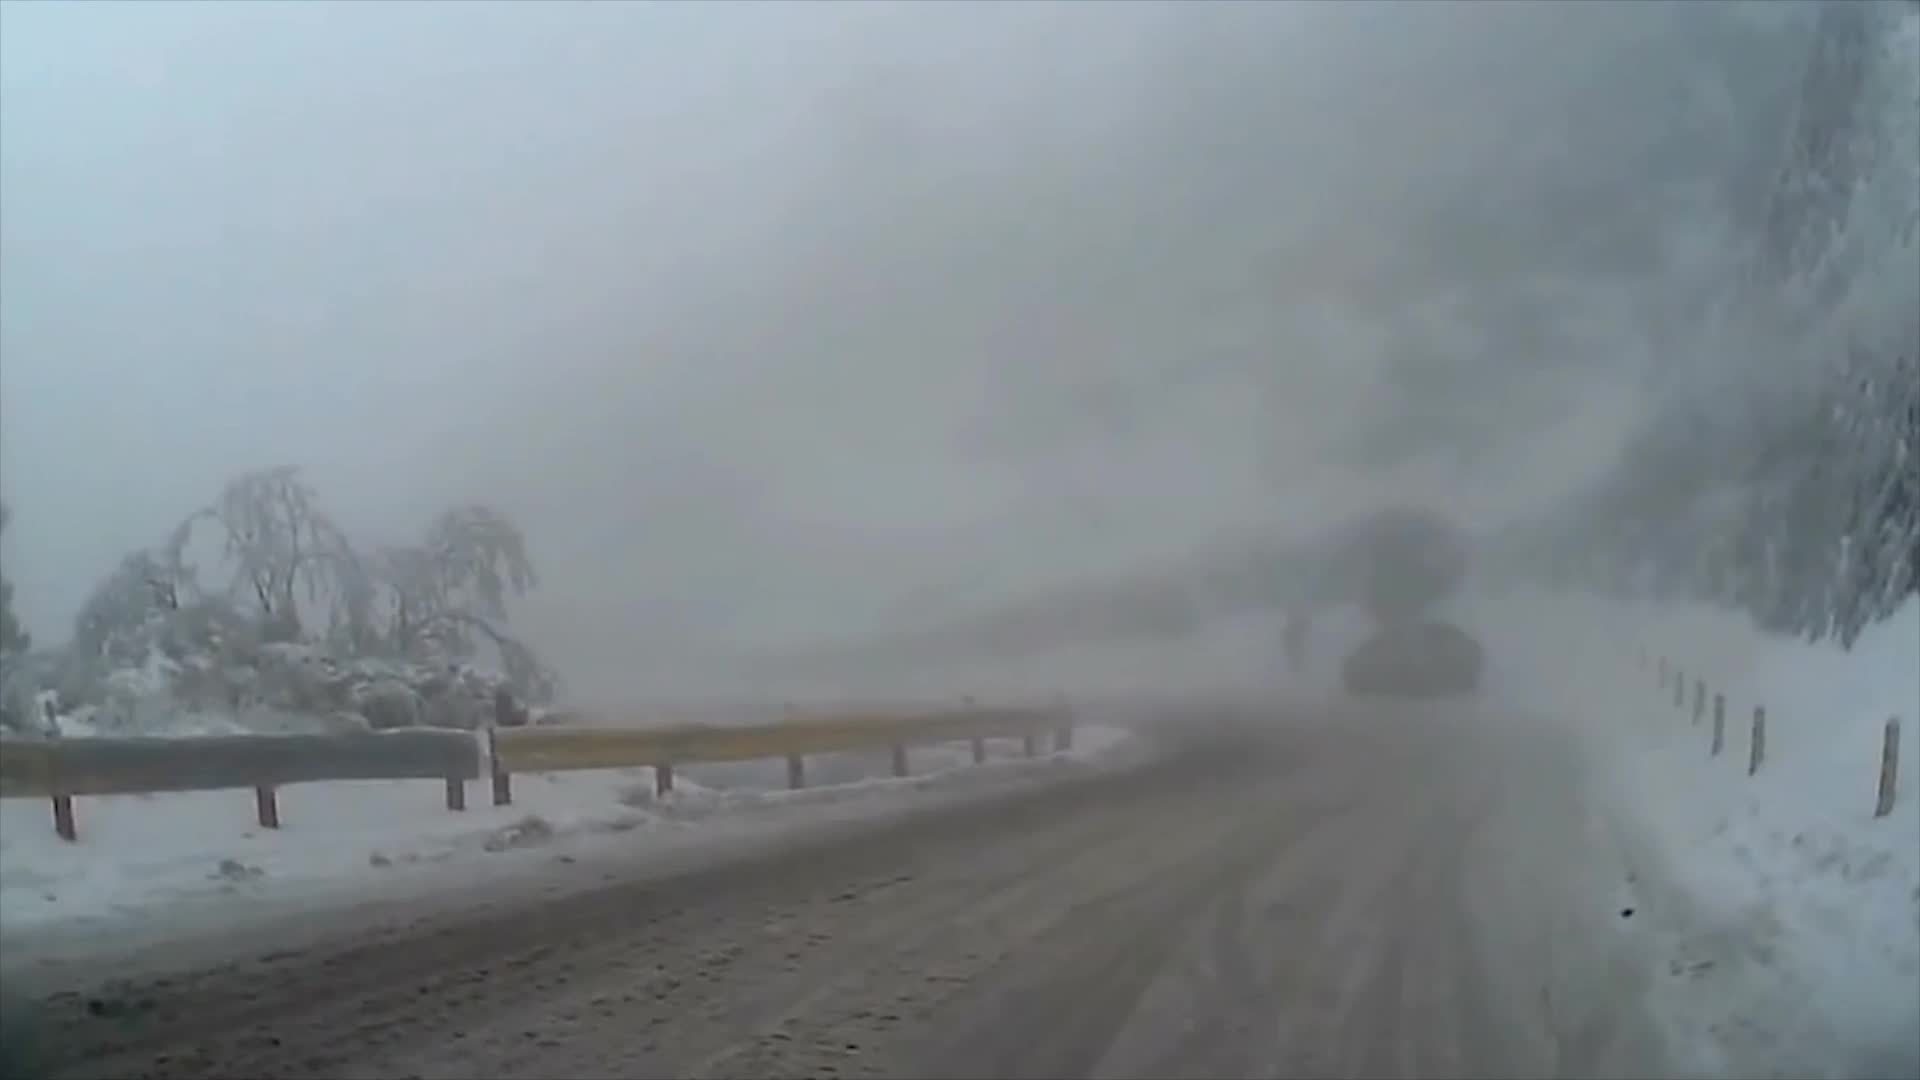vehicle: (1341, 622, 1486, 700)
